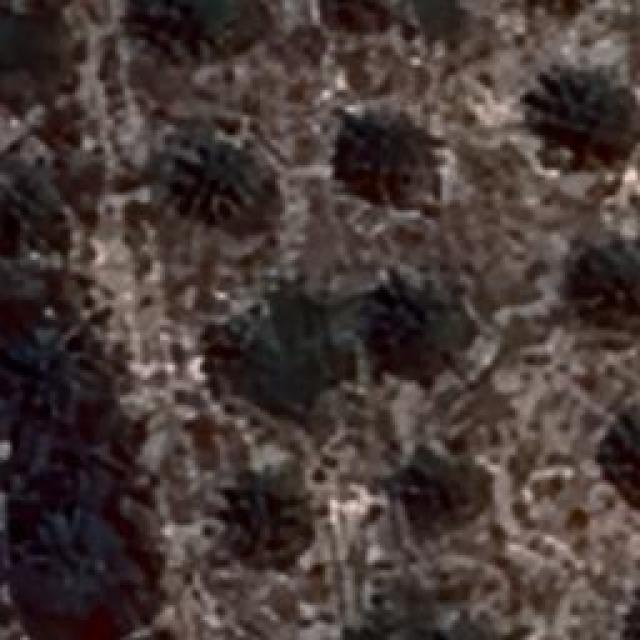PalmTree: (18, 525, 142, 630), (358, 278, 462, 380), (0, 329, 95, 439), (340, 108, 438, 208), (225, 311, 328, 406), (536, 55, 632, 143), (570, 239, 640, 339), (229, 468, 309, 554), (213, 316, 293, 402), (26, 79, 79, 203), (175, 140, 255, 218), (400, 446, 472, 514), (79, 34, 172, 79), (595, 402, 640, 492), (0, 3, 32, 102), (322, 0, 402, 38), (422, 612, 512, 640), (0, 5, 20, 98), (502, 0, 608, 10), (621, 588, 640, 640)
